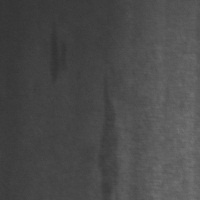inclusion: (91, 70, 125, 199), (42, 19, 73, 91)
